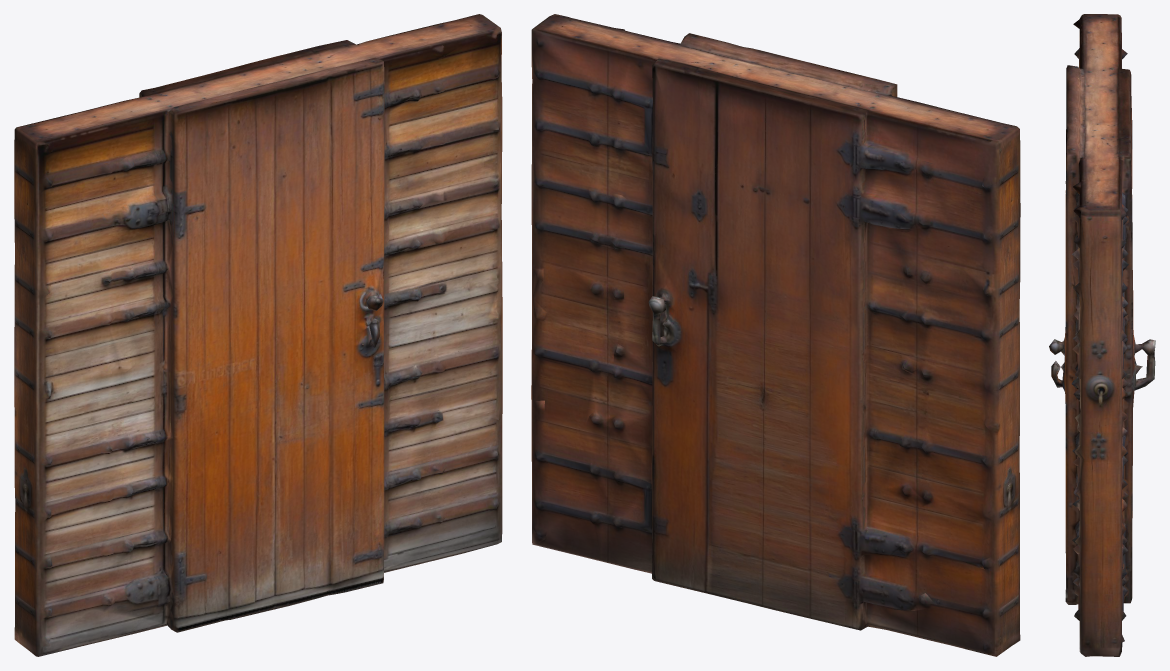
The picture shows the model from 3 angles, left to right: view 1: azimuth 30°, elevation 25°; view 2: azimuth 150°, elevation 25°; view 3: azimuth 270°, elevation 25°; orthographic projection. The views are drawn at different scales.
Parts seen in each view (by area): view 1: Mesh1.0; view 2: Mesh1.0; view 3: Mesh1.0.
Part boxes in pixels (x1=…): Mesh1.0: x1=14, y1=14, x2=502, y2=656; Mesh1.0: x1=531, y1=14, x2=1020, y2=656; Mesh1.0: x1=1049, y1=14, x2=1155, y2=656.
Bounding box in the file's own units: 188 × 200 × 42.85.
Materials: 1 (1 with a texture image).
